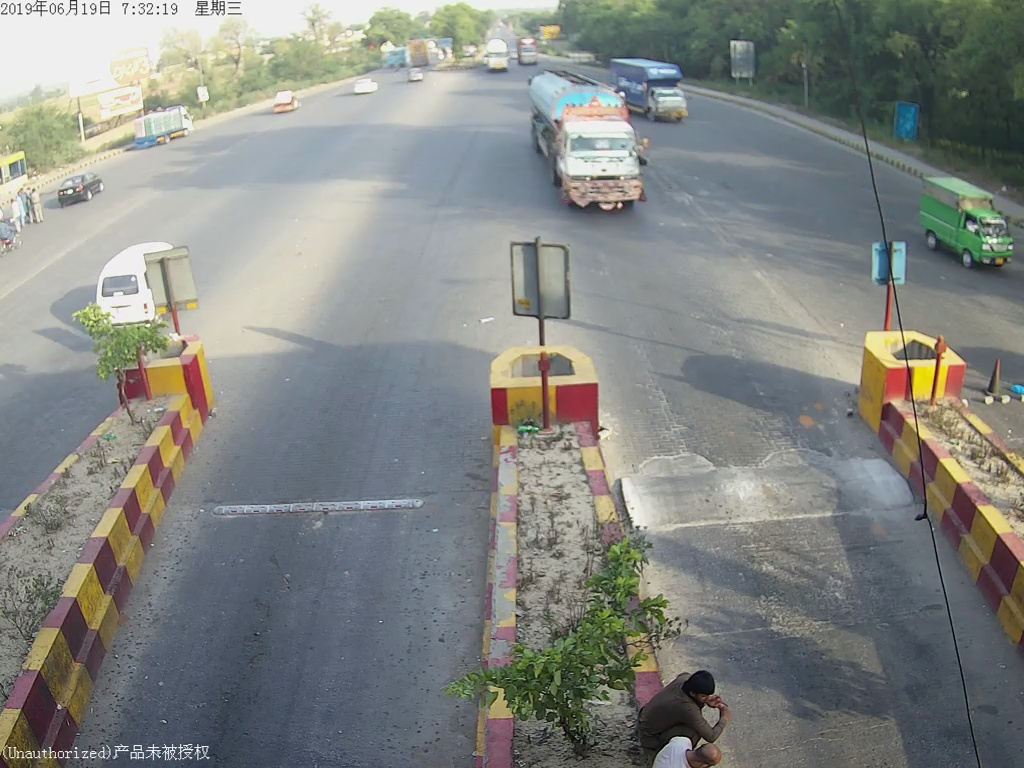Cat-5: (524, 74, 646, 213)
